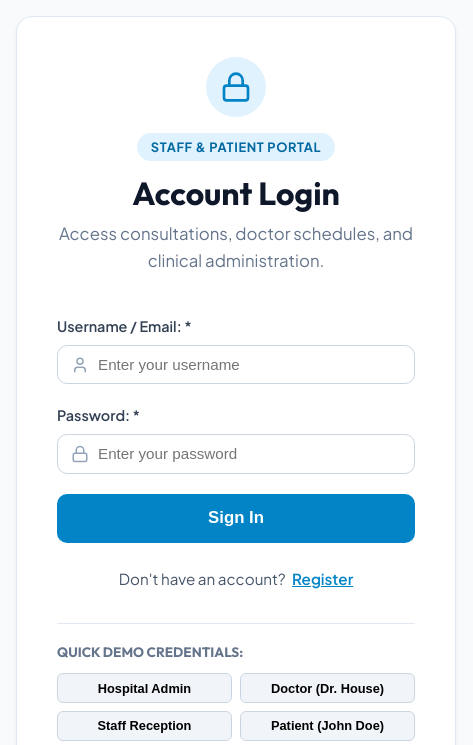
Test: Login & Authentication Flow › submits credentials and handles failed login error message
Type "wronguser" into the field with placeholder "Enter your username" at (236, 365), box [57, 345, 415, 384]
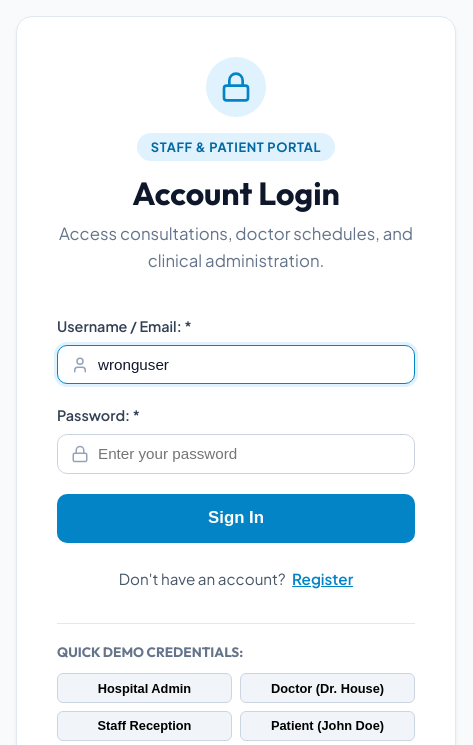
Type "badpass" into the password field with placeholder "Enter your password" at (236, 454), box [57, 434, 415, 474]
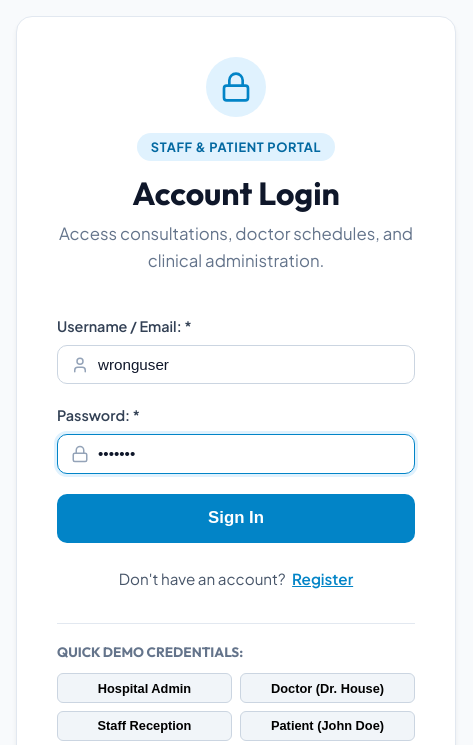
Click the button "Sign In" at (236, 518), box [57, 494, 415, 543]
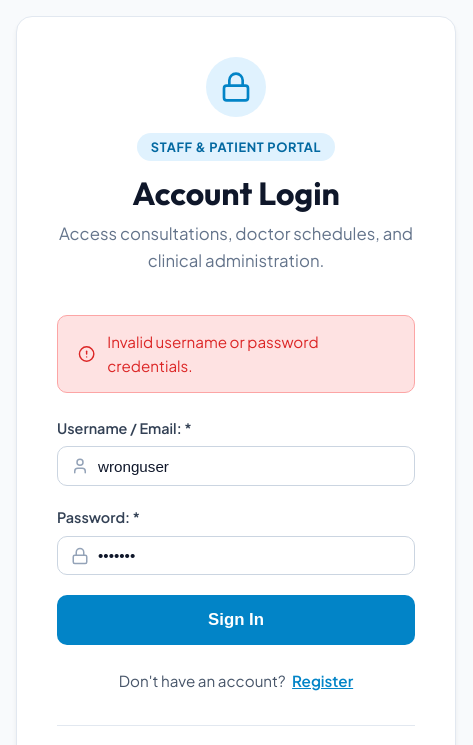
Expected: the text "Invalid username or password credentials." is shown, [107, 332, 319, 375]
